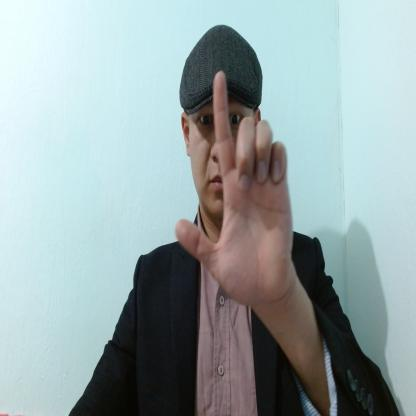L: (175, 72, 291, 304)
